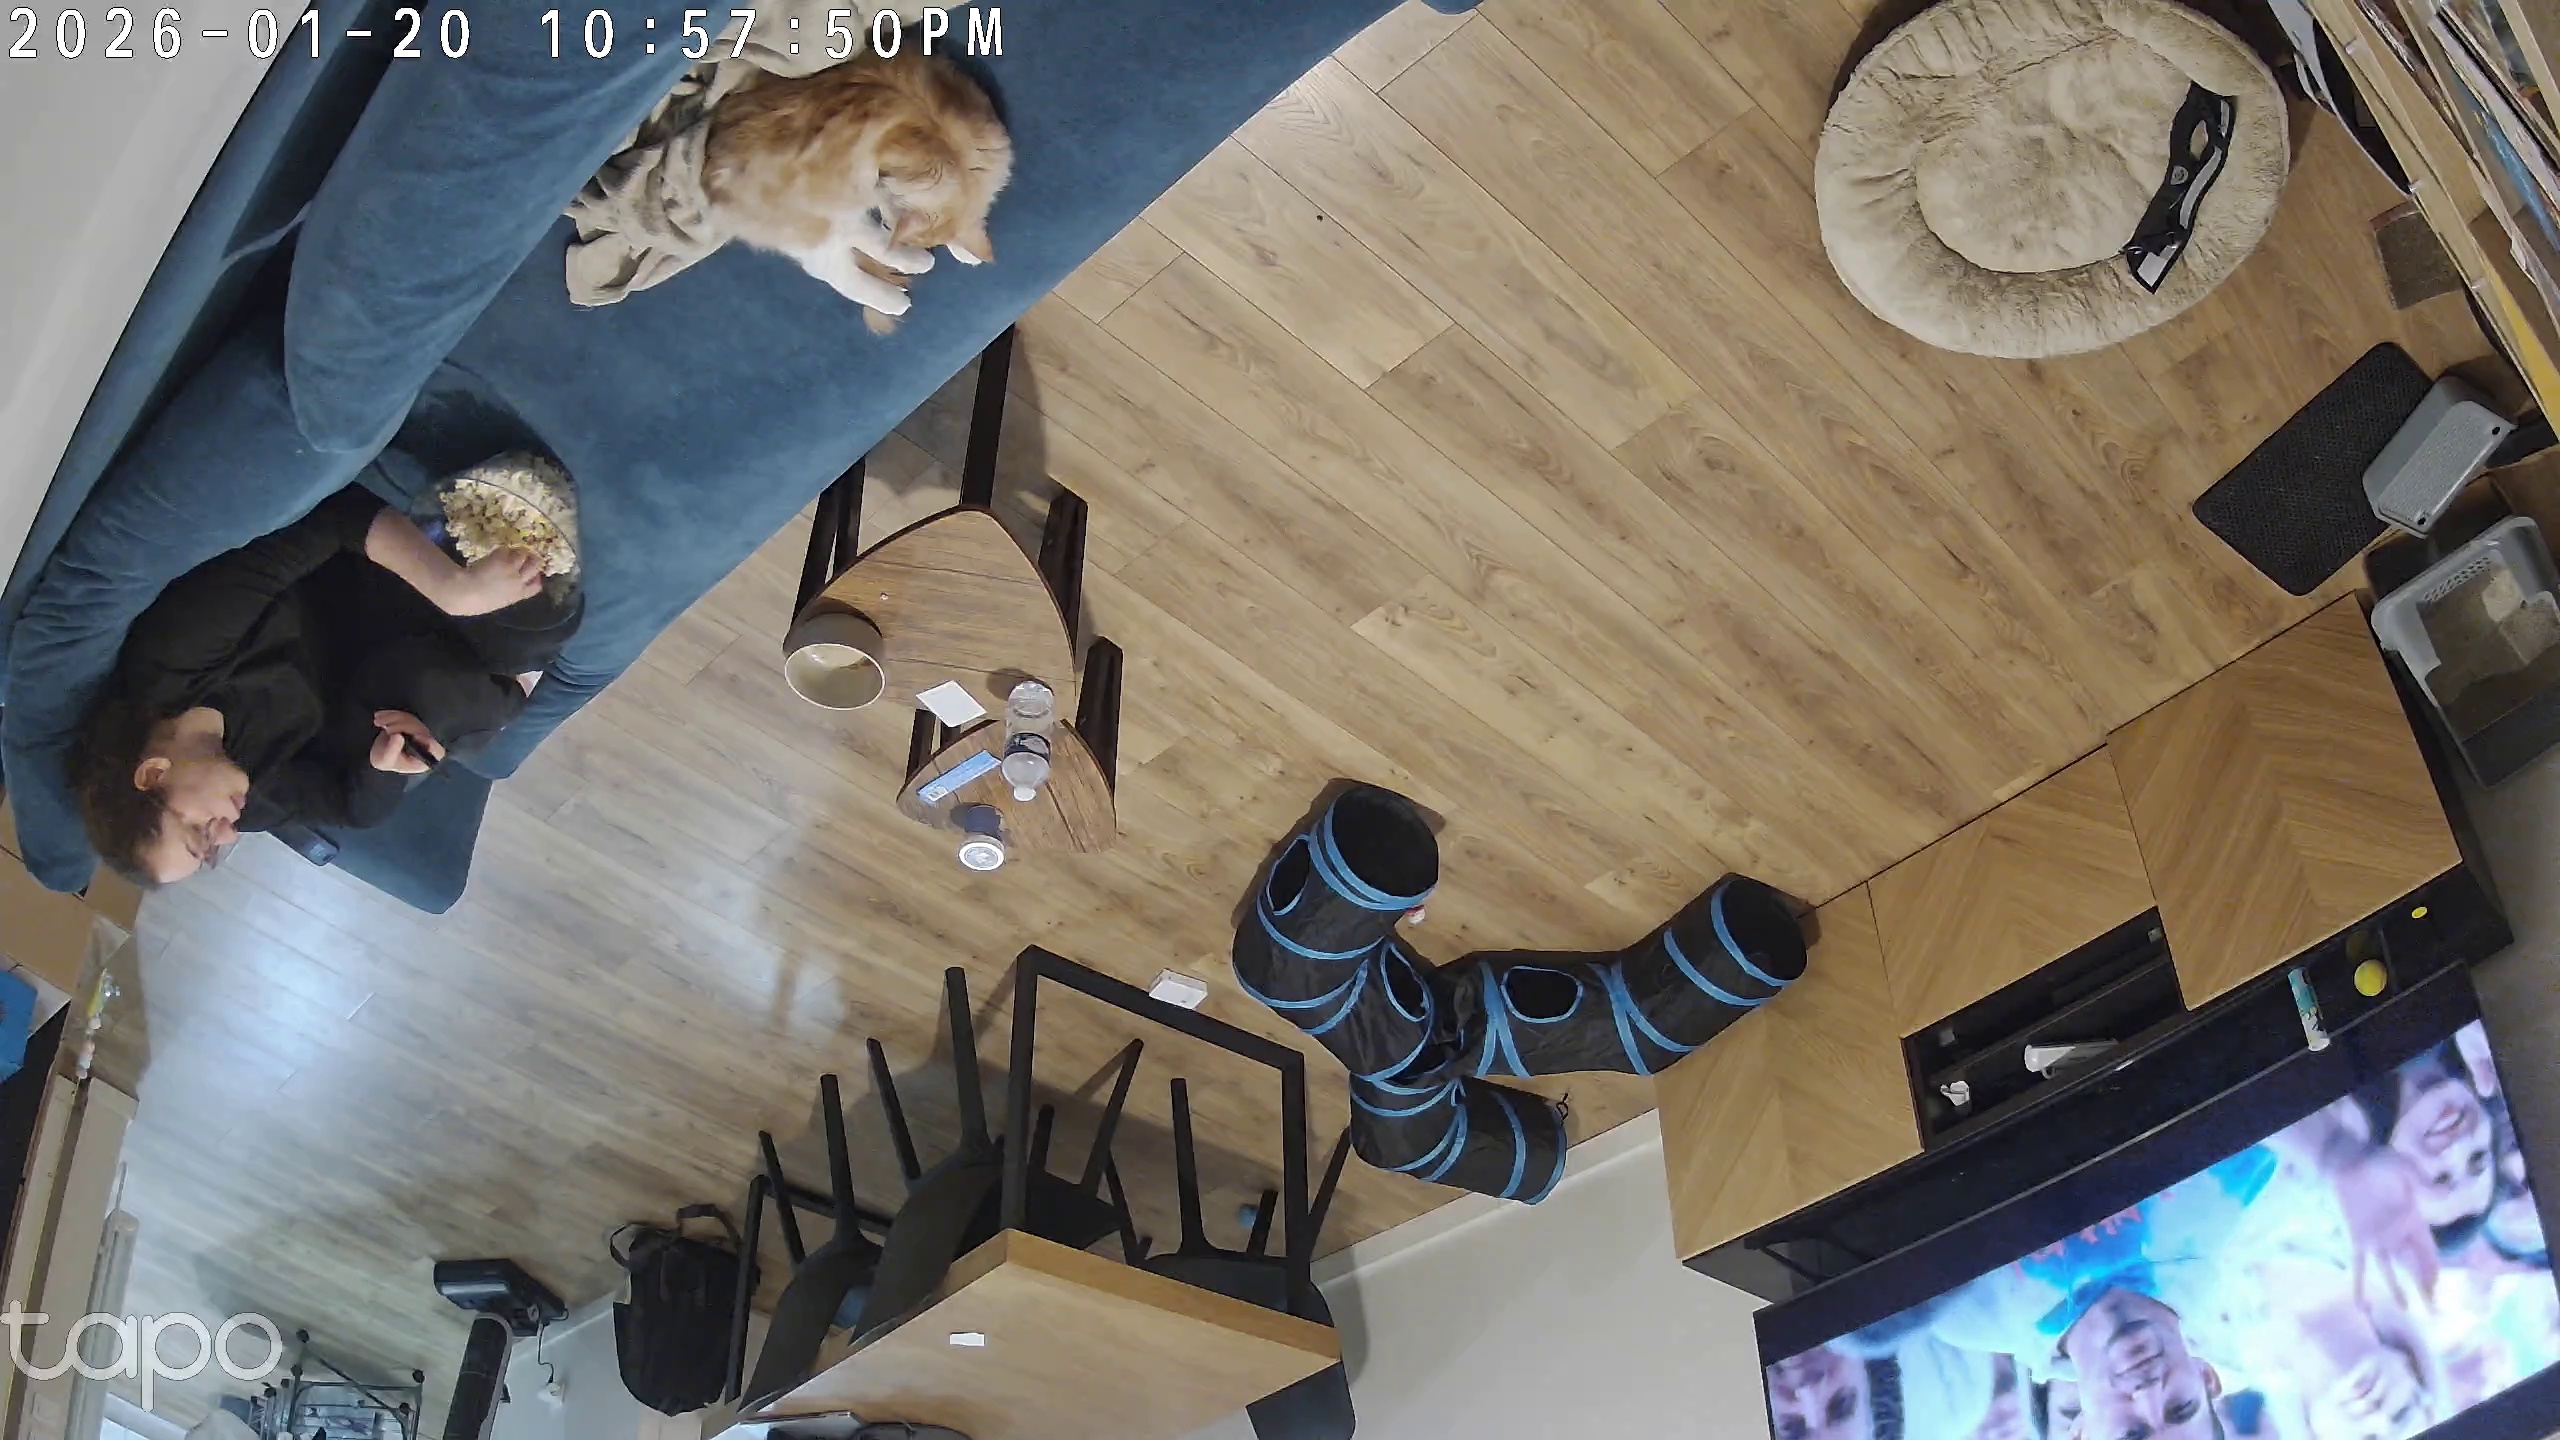Simba: (673, 23, 1062, 348)
